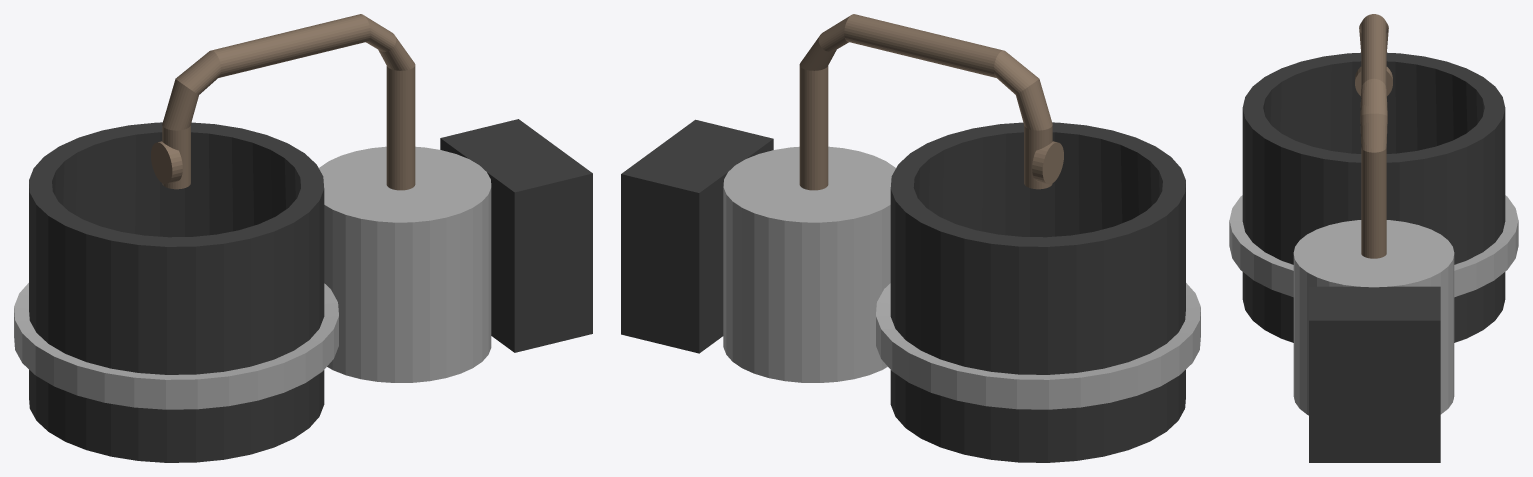
File: Filter_T1.fbx
3 views of the same model, side by side, from view 1: azimuth 30°, elevation 25°; view 2: azimuth 150°, elevation 25°; view 3: azimuth 270°, elevation 25° (orthographic). The views are drawn at different scales.
Visible parts, largest first — view 1: Filter_T1; view 2: Filter_T1; view 3: Filter_T1.
Boxes of the visible parts, bbox=[...] form: Filter_T1: bbox=[14, 14, 592, 462]; Filter_T1: bbox=[621, 14, 1200, 462]; Filter_T1: bbox=[1229, 14, 1518, 462].
Bounding box in the file's own units: 149 × 92.64 × 80.45.
